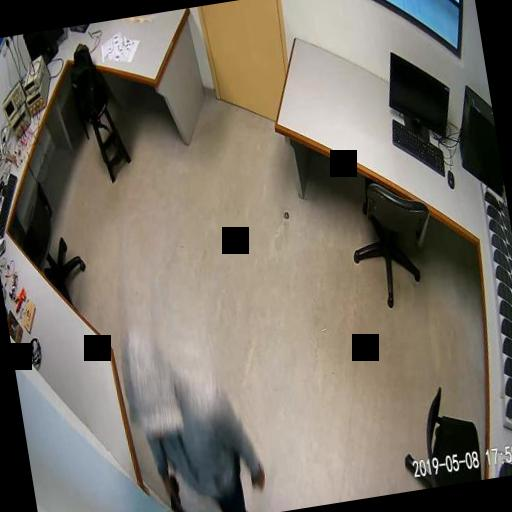Handgun: (162, 470, 187, 512)
